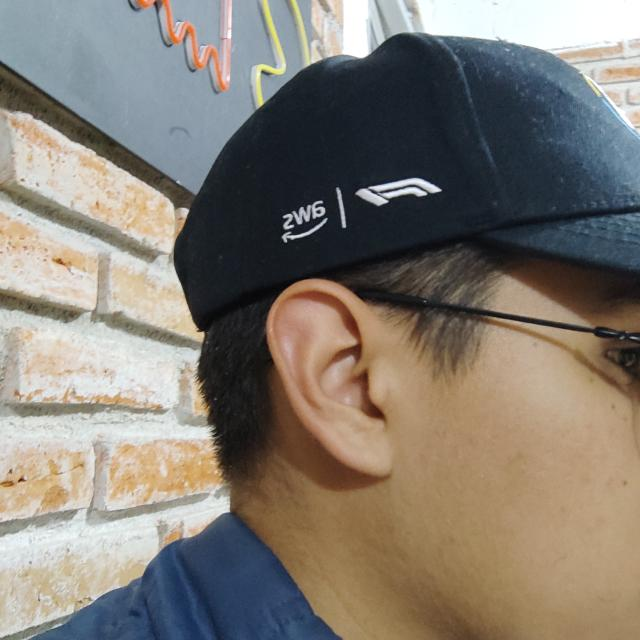ear: (268, 278, 402, 475)
